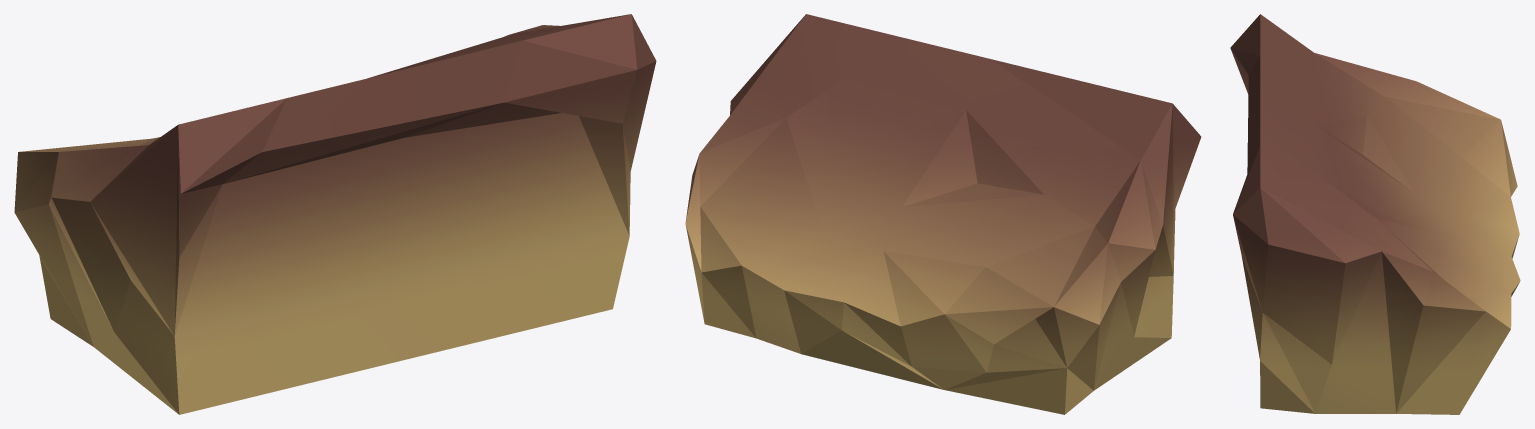
File: Large_ramp.fbx
The picture shows the model from 3 angles, left to right: view 1: azimuth 30°, elevation 25°; view 2: azimuth 150°, elevation 25°; view 3: azimuth 270°, elevation 25°; orthographic projection. The views are drawn at different scales.
Parts seen in each view (by area): view 1: Large_ramp; view 2: Large_ramp; view 3: Large_ramp.
Boxes of the visible parts, x1,y1,x2,y2 form: Large_ramp: (14, 14, 656, 414); Large_ramp: (685, 14, 1201, 414); Large_ramp: (1230, 14, 1520, 414).
Size of the model in its own units: 240 by 122 by 141.
